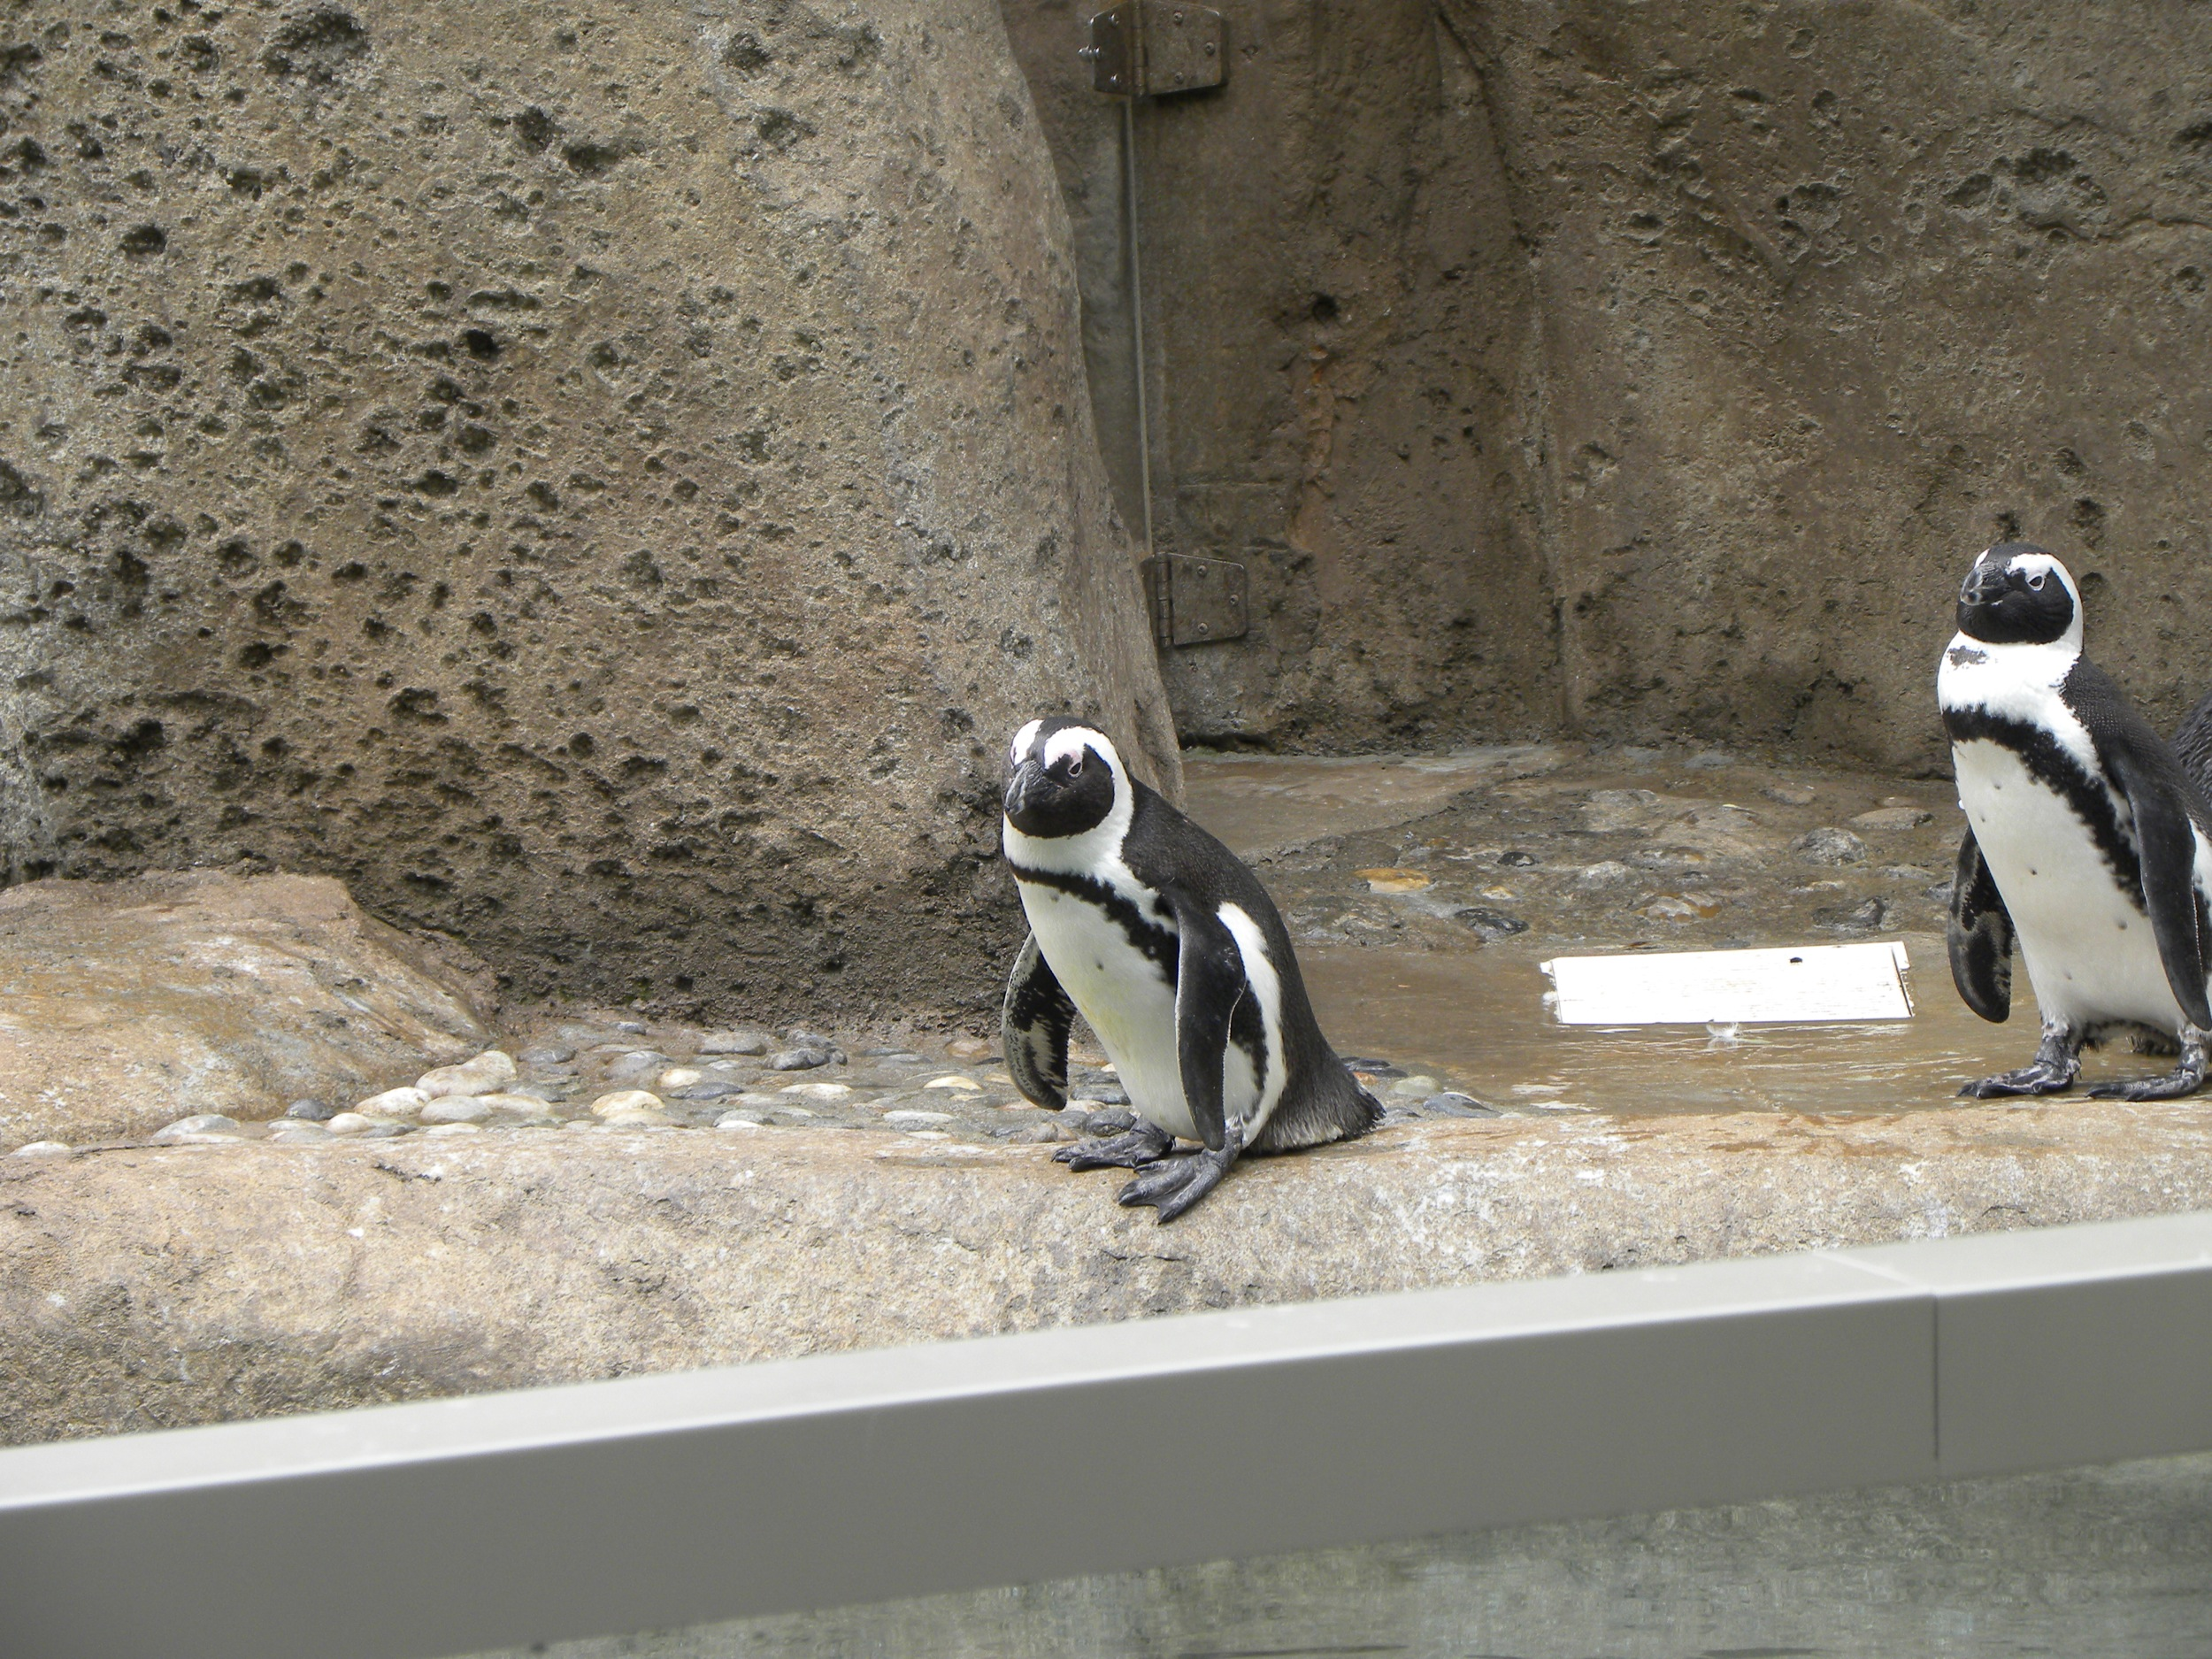penguin: (988, 706, 1393, 1223), (1947, 545, 2212, 1093)
